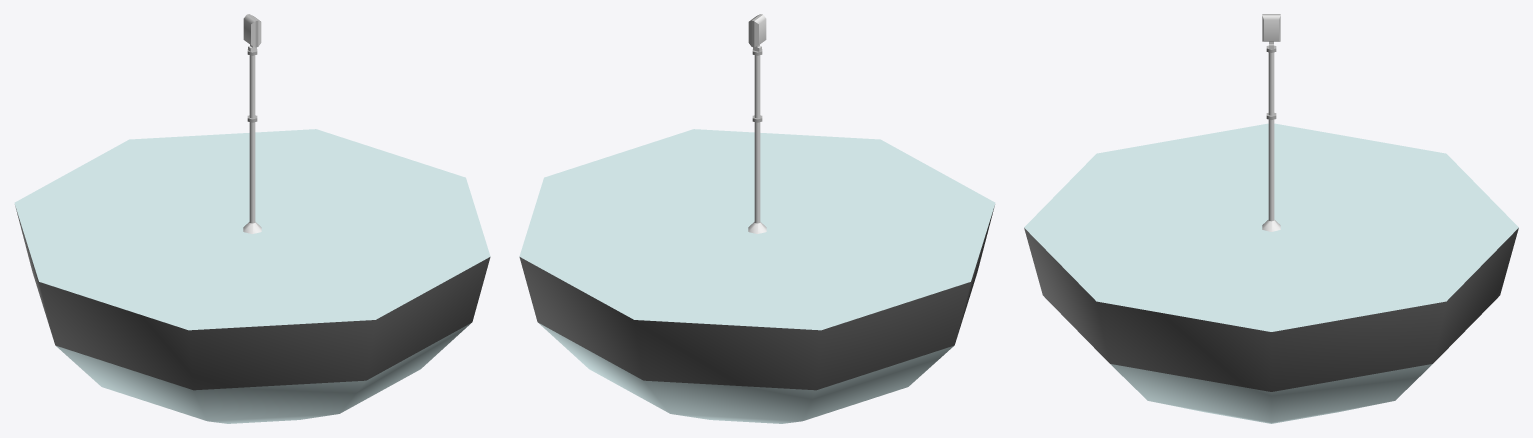
Rendered from mic.fbx.
The picture shows the model from 3 angles, left to right: view 1: azimuth 30°, elevation 25°; view 2: azimuth 150°, elevation 25°; view 3: azimuth 270°, elevation 25°; orthographic projection.
Parts seen in each view (by area): view 1: stage_base, mic; view 2: stage_base, mic; view 3: stage_base, mic.
Part boxes in pixels (left/top/right/bottom): stage_base: left=14, top=129, right=490, bottom=423; mic: left=243, top=14, right=261, bottom=233; stage_base: left=519, top=129, right=995, bottom=423; mic: left=748, top=14, right=766, bottom=233; stage_base: left=1024, top=123, right=1518, bottom=423; mic: left=1262, top=14, right=1280, bottom=231.
Size of the model in its own units: 12.75 by 10.85 by 12.75.
Materials: 1 (1 with a texture image).
